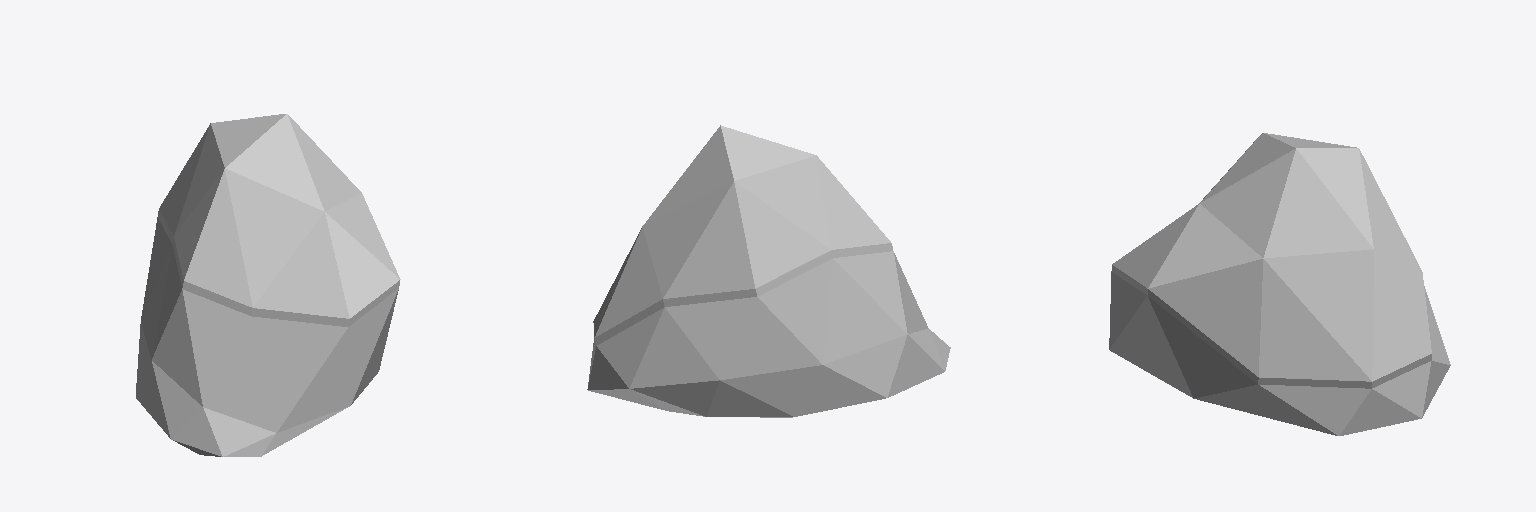
File: Roca_pequeña_nieve.obj
The picture shows the model from 3 angles: view 1: azimuth 30°, elevation 25°; view 2: azimuth 150°, elevation 25°; view 3: azimuth 270°, elevation 25°; orthographic projection.
Visible parts, largest first — view 1: Object010; view 2: Object010; view 3: Object010.
Part boxes in pixels (x1,y1,x2,y2): Object010: (136, 114, 400, 456); Object010: (587, 125, 950, 417); Object010: (1109, 133, 1450, 435).
Size of the model in its own units: 10.98 by 10.15 by 12.38.